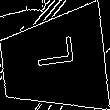L_W: (29, 43, 78, 81)
